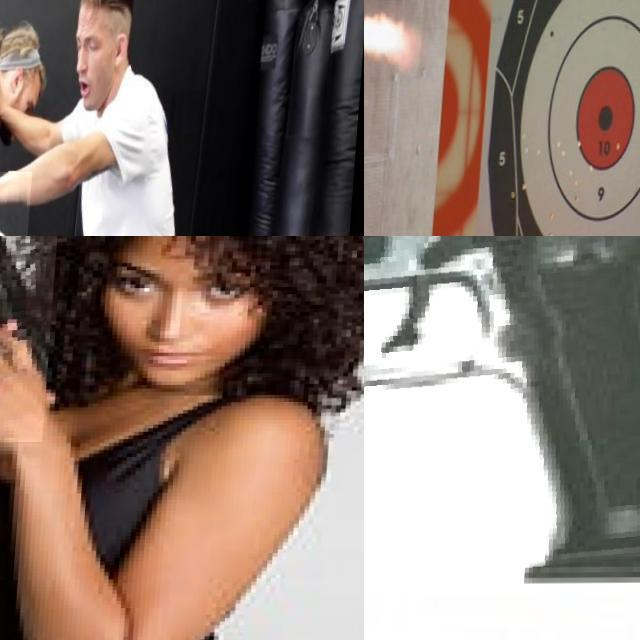-: (0, 172, 48, 236)
gun-knife-thesis - v11 Yolov5 augmented: (364, 236, 640, 594), (0, 236, 65, 442), (364, 4, 400, 107)
